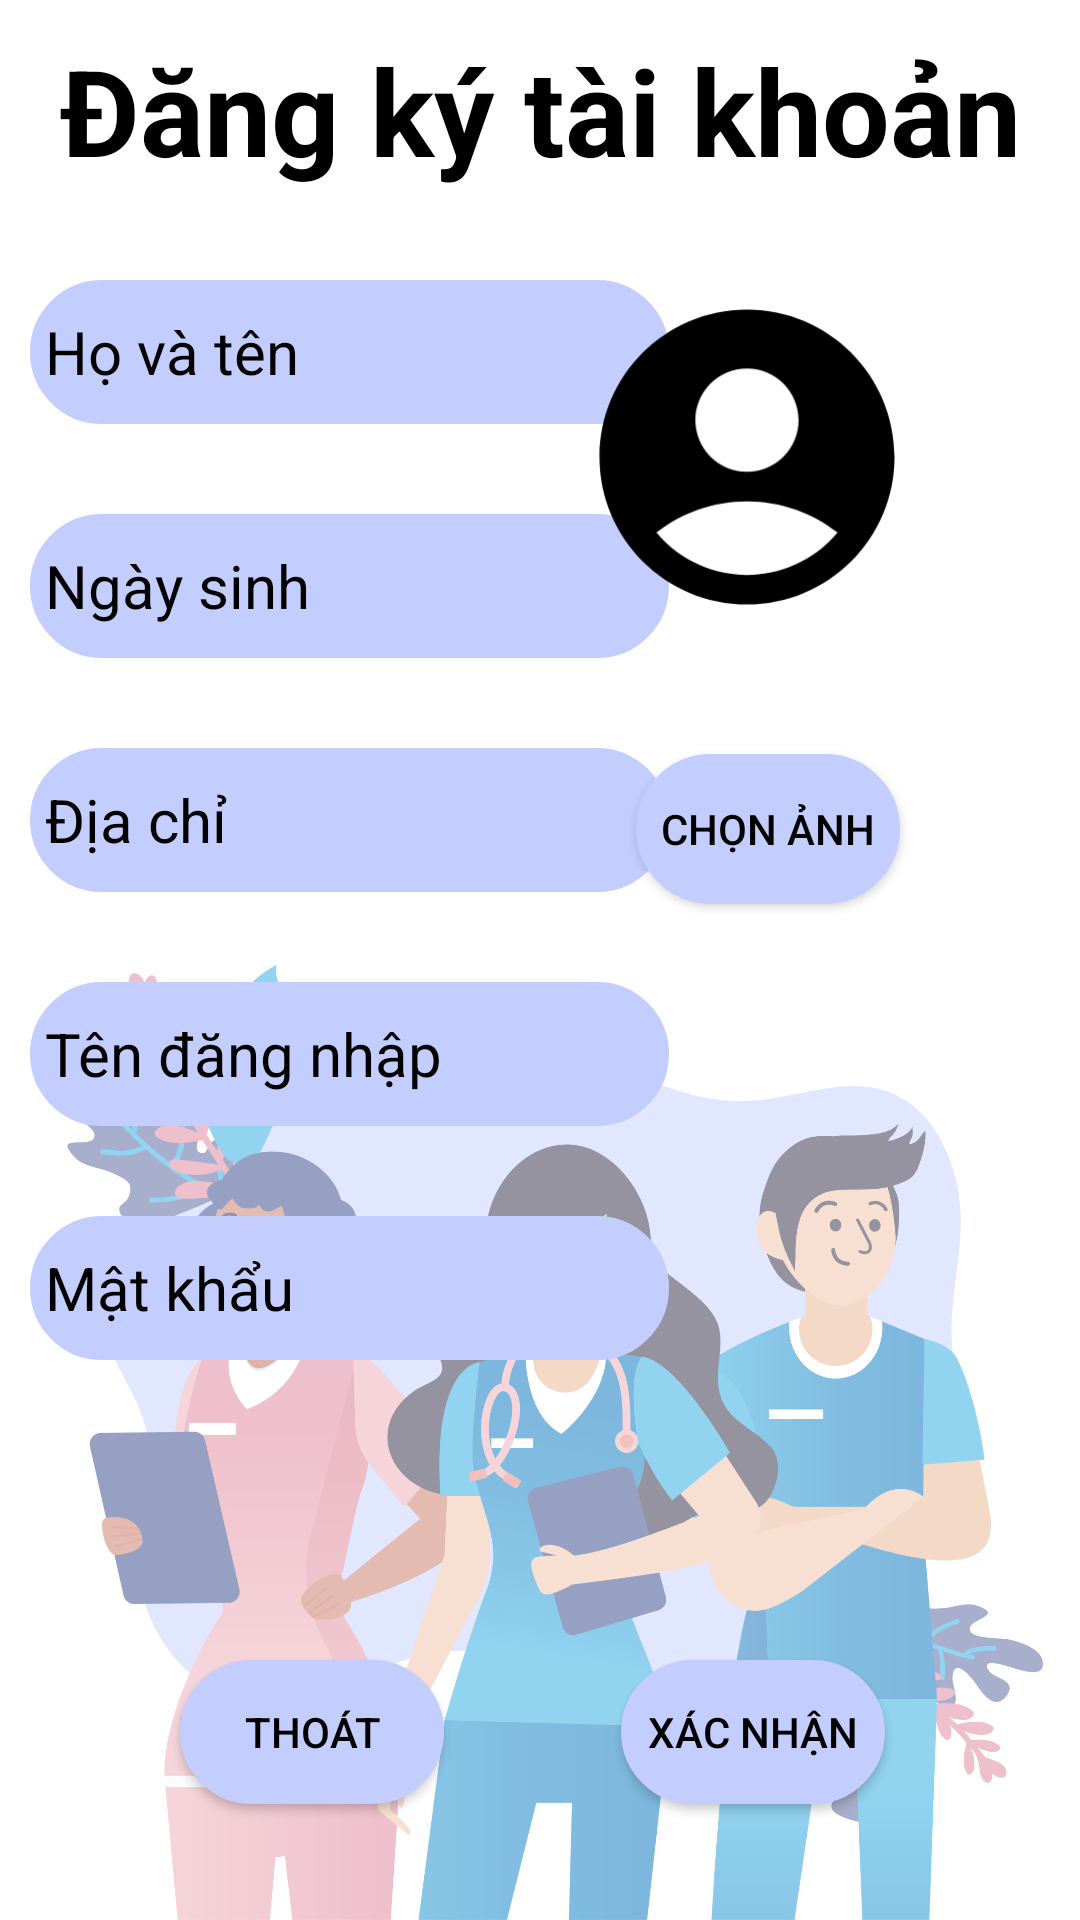

Icon click points for this 1080x1920 phone screenshot, format (x=x, y=y):
account: (x=729, y=457)
